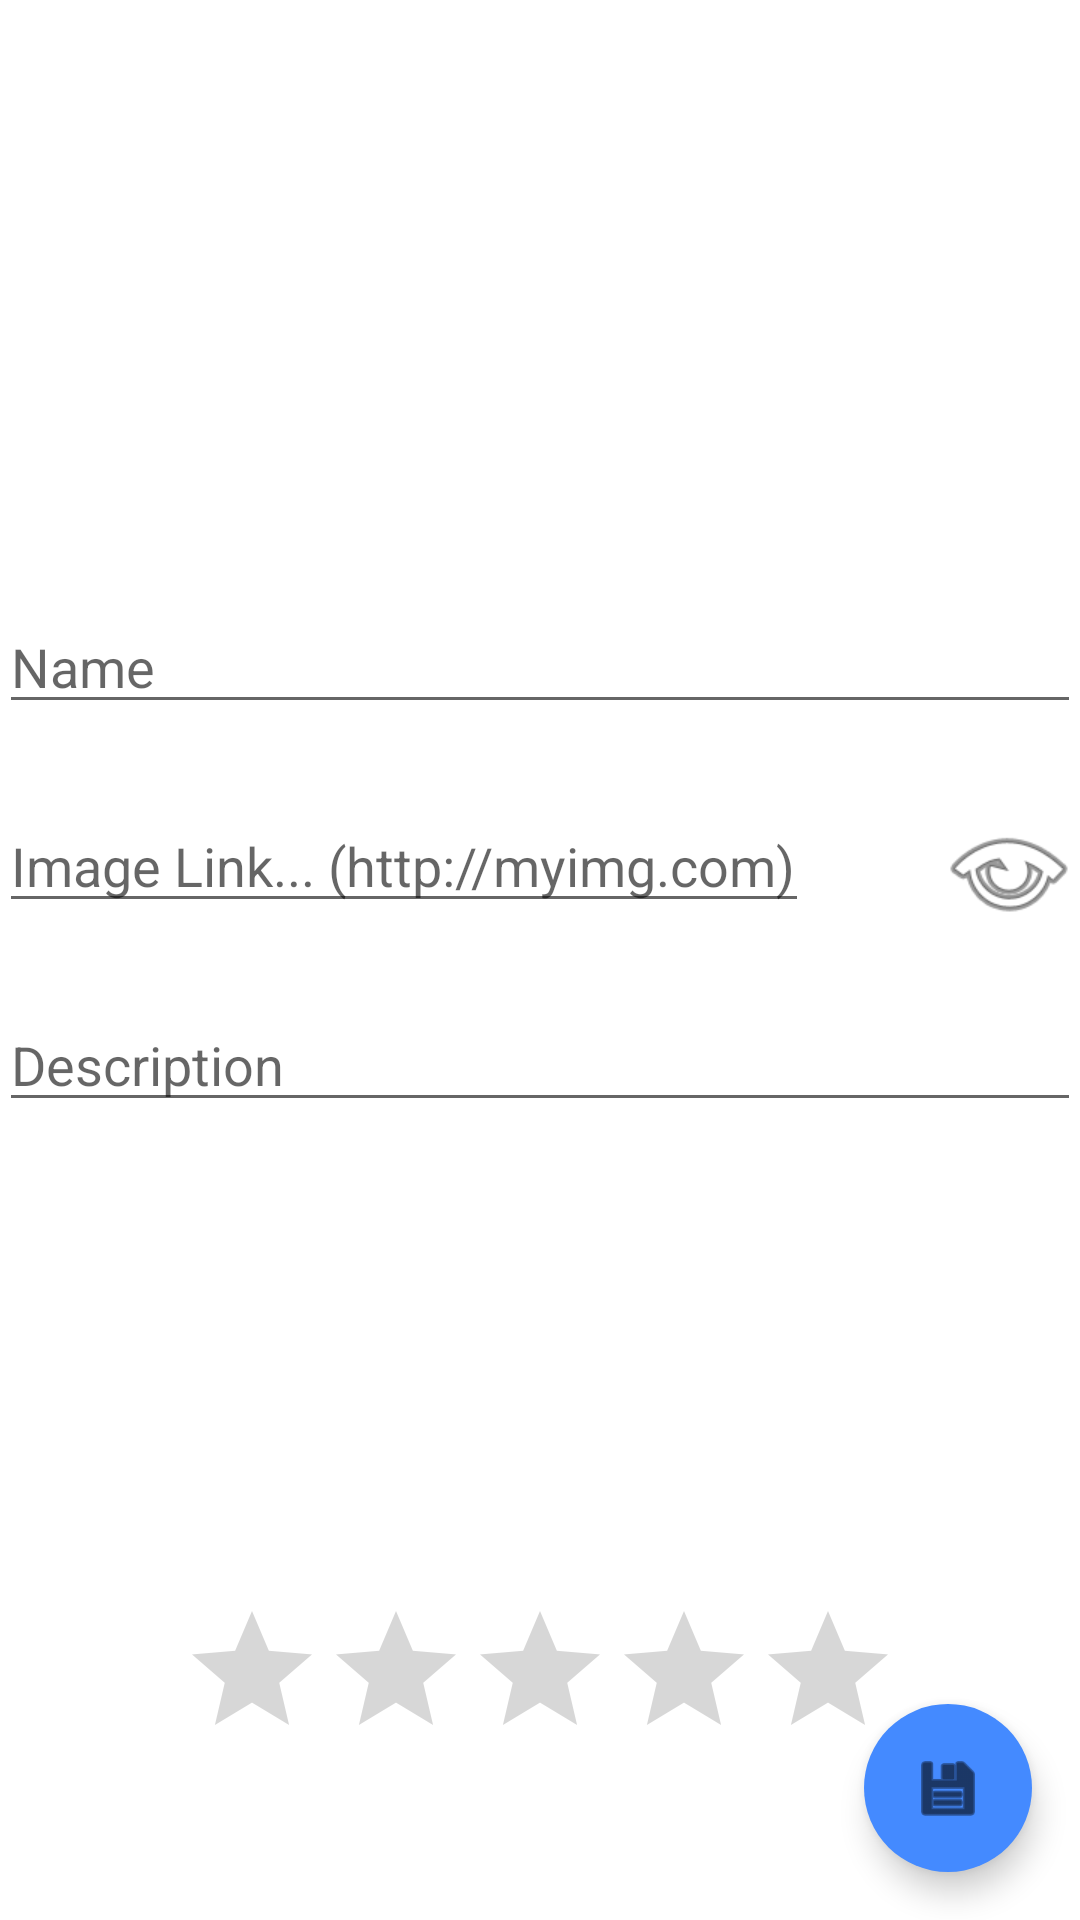

Screen size 1080px x 1920px. Icon name, then its box in pixels as BBox(x1, y1, x2, y2):
save: BBox(864, 1704, 1032, 1872)
view: BBox(950, 838, 1068, 912)
